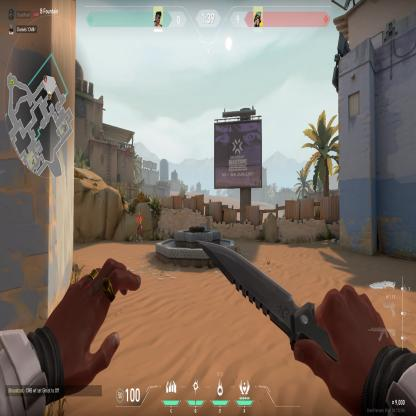enemy: (136, 211, 143, 243)
